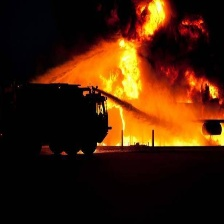fire: (113, 111, 204, 146), (97, 43, 141, 108), (135, 2, 164, 36), (208, 82, 220, 97)
smoke: (170, 4, 224, 84)
